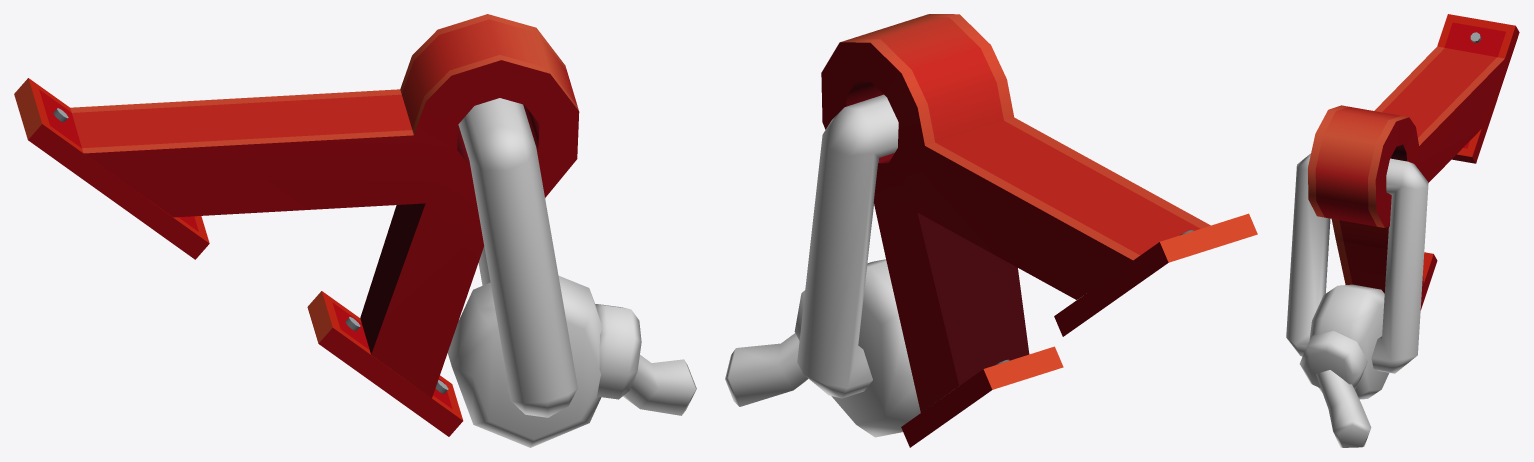
The model's file is lightHouseConnection.glb.
3 views of the same model, side by side, from view 1: azimuth 30°, elevation 25°; view 2: azimuth 150°, elevation 25°; view 3: azimuth 270°, elevation 25° (orthographic). The views are drawn at different scales.
Visible parts, largest first — view 1: lightHouseConnection; view 2: lightHouseConnection; view 3: lightHouseConnection.
Boxes of the visible parts, bbox=[...] form: lightHouseConnection: bbox=[14, 14, 696, 447]; lightHouseConnection: bbox=[725, 14, 1257, 447]; lightHouseConnection: bbox=[1286, 14, 1519, 447].
Size of the model in its own units: 1.32 by 0.881 by 0.6756.
